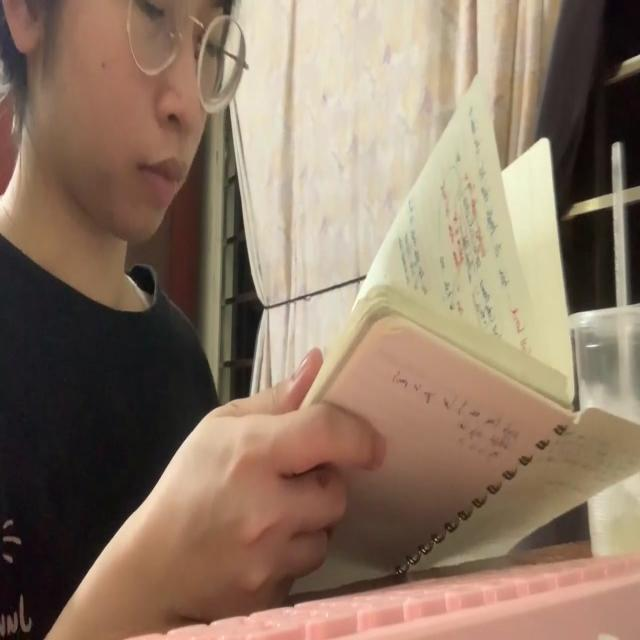book: (297, 58, 640, 610)
student: (0, 0, 387, 640)
